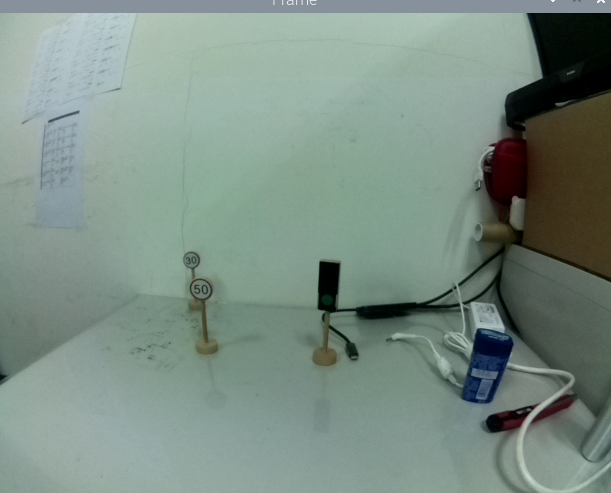Green: (316, 257, 341, 314)
Speed30: (183, 249, 202, 270)
Speed50: (189, 276, 215, 301)
